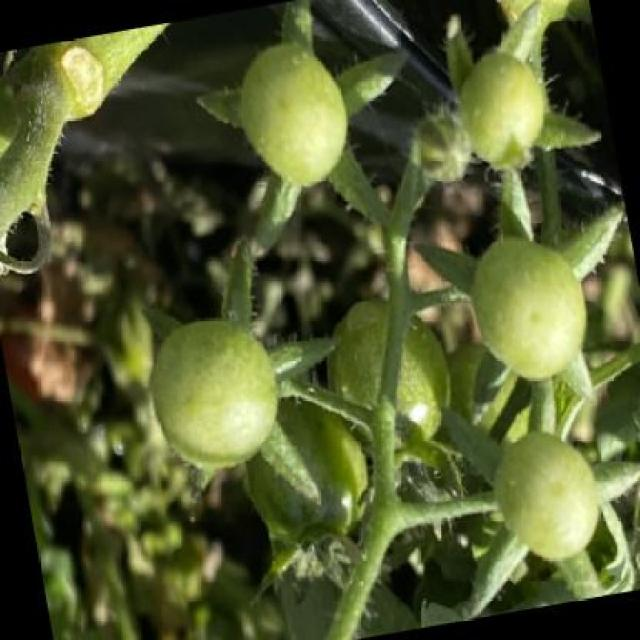unripe tomato: (130, 295, 290, 491), (316, 282, 462, 475), (458, 227, 599, 391), (223, 33, 357, 195), (486, 422, 612, 570), (442, 38, 553, 175)
